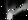person: (5, 1, 28, 20)
